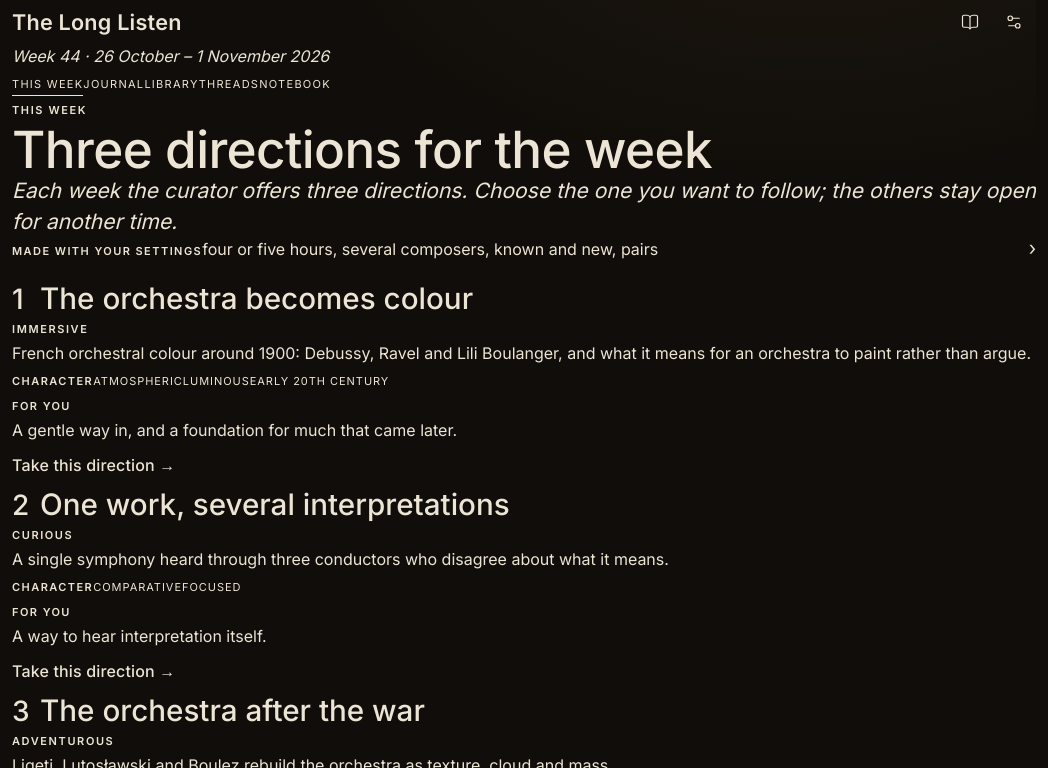
Test: The Long Listen › goes from three directions to a programme with named recordings
This screenshot has width=1048, height=768.
Expected: the heading "Three directions for the week" is shown, [12,118,712,180]
Step 1. Click the button "Take this direction →" below "atmospheric" → [94, 465], box [12,443,175,487]
(page scrolled)
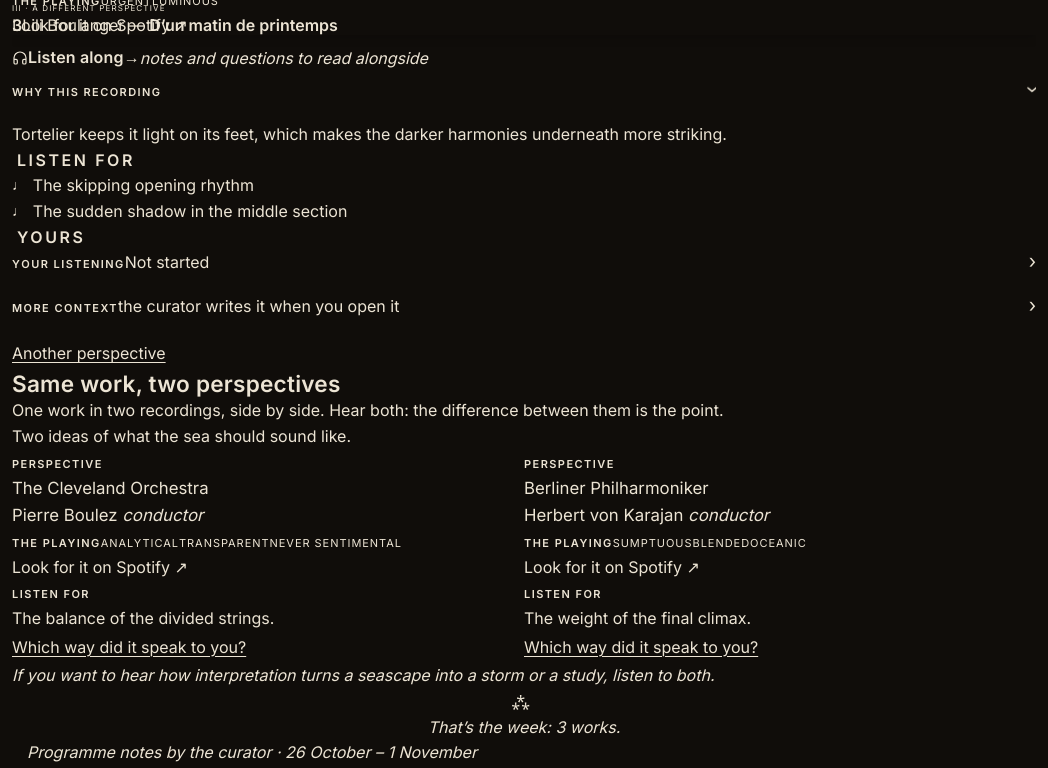
Now the text "Pierre Boulez conductor" is shown, box [12,505,203,525]
Now the text "The Cleveland Orchestra" is shown, box [12,478,209,498]
Now the heading "Same work, two perspectives" is shown, box [12,370,341,397]
